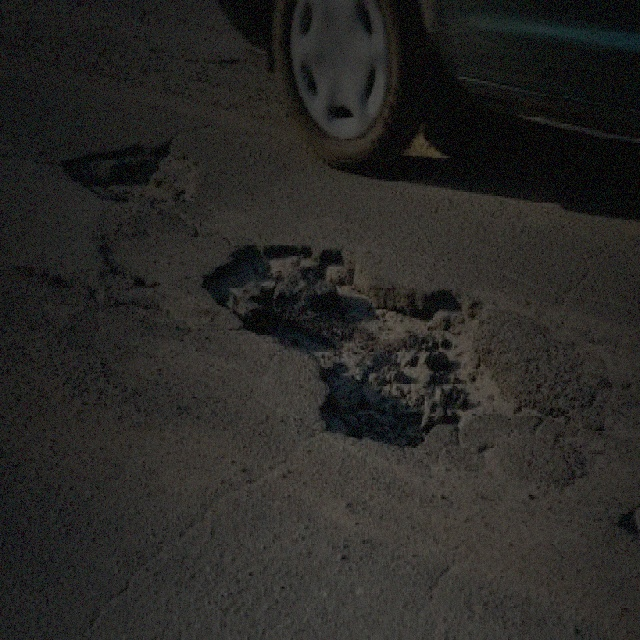pothole: (198, 233, 514, 448), (57, 134, 201, 203)
